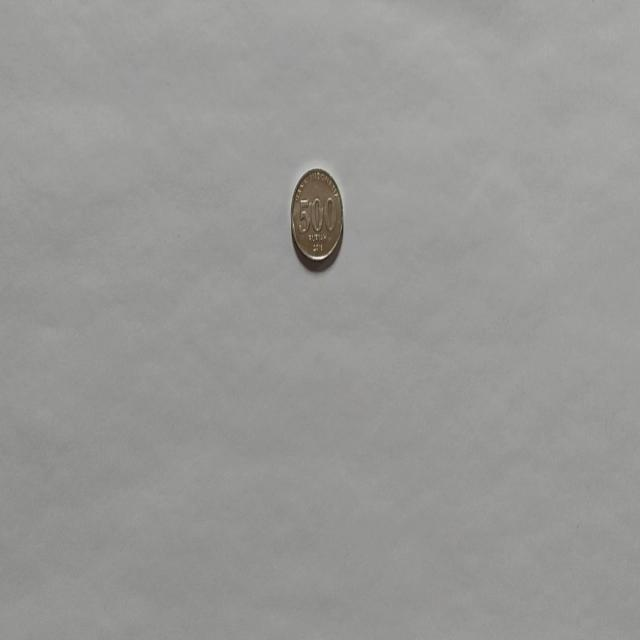lima ratus rupiah: (290, 166, 344, 264)
